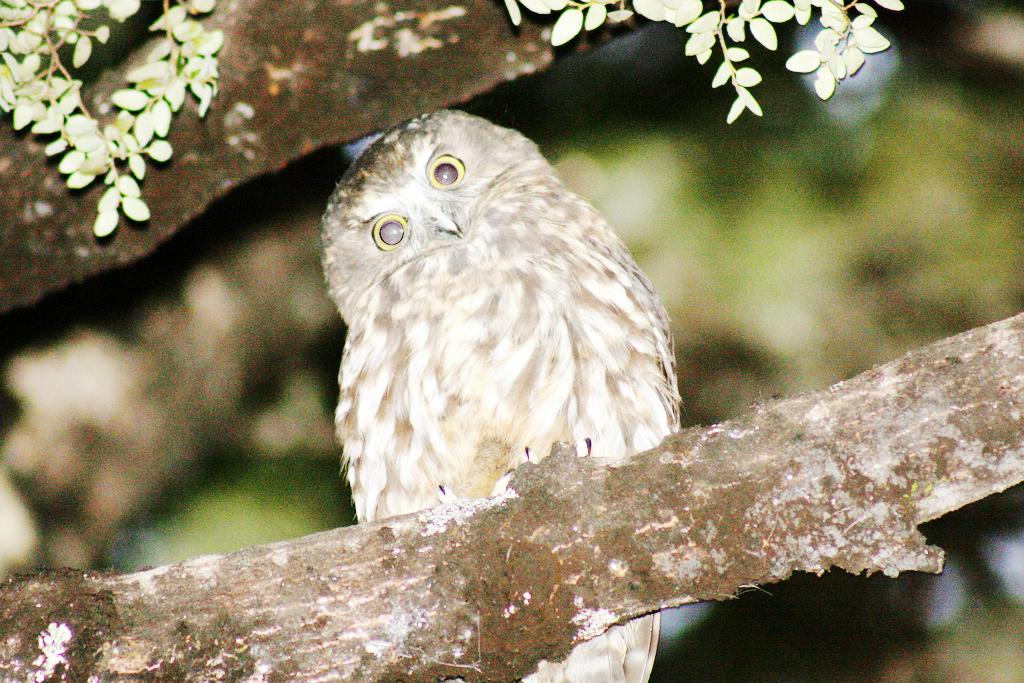Owl: (316, 109, 686, 682)
